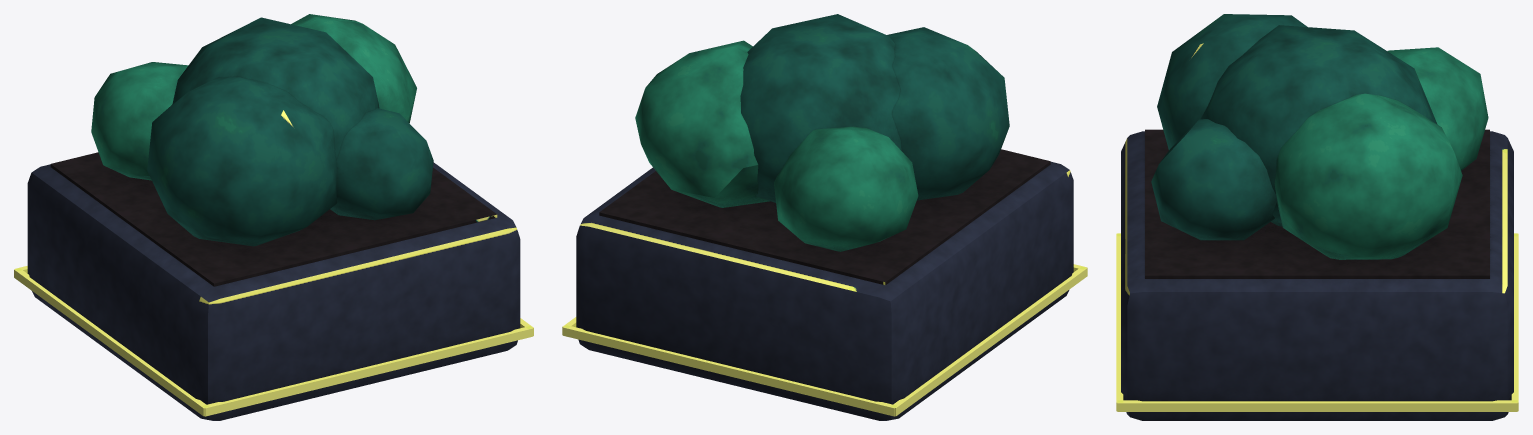
File: planter.fbx
The picture shows the model from 3 angles, left to right: view 1: azimuth 30°, elevation 25°; view 2: azimuth 150°, elevation 25°; view 3: azimuth 270°, elevation 25°; orthographic projection. The views are drawn at different scales.
Visible parts, largest first — view 1: planter, planter_glow; view 2: planter, planter_glow; view 3: planter, planter_glow.
Part boxes in pixels (x1,y1,x2,y2): planter: [27, 14, 520, 420]; planter_glow: [14, 266, 533, 416]; planter: [576, 14, 1073, 420]; planter_glow: [562, 264, 1087, 416]; planter: [1121, 14, 1513, 420]; planter_glow: [1116, 233, 1518, 411].
Bounding box in the file's own units: 338 × 281 × 338.
1 material, 1 textured.
